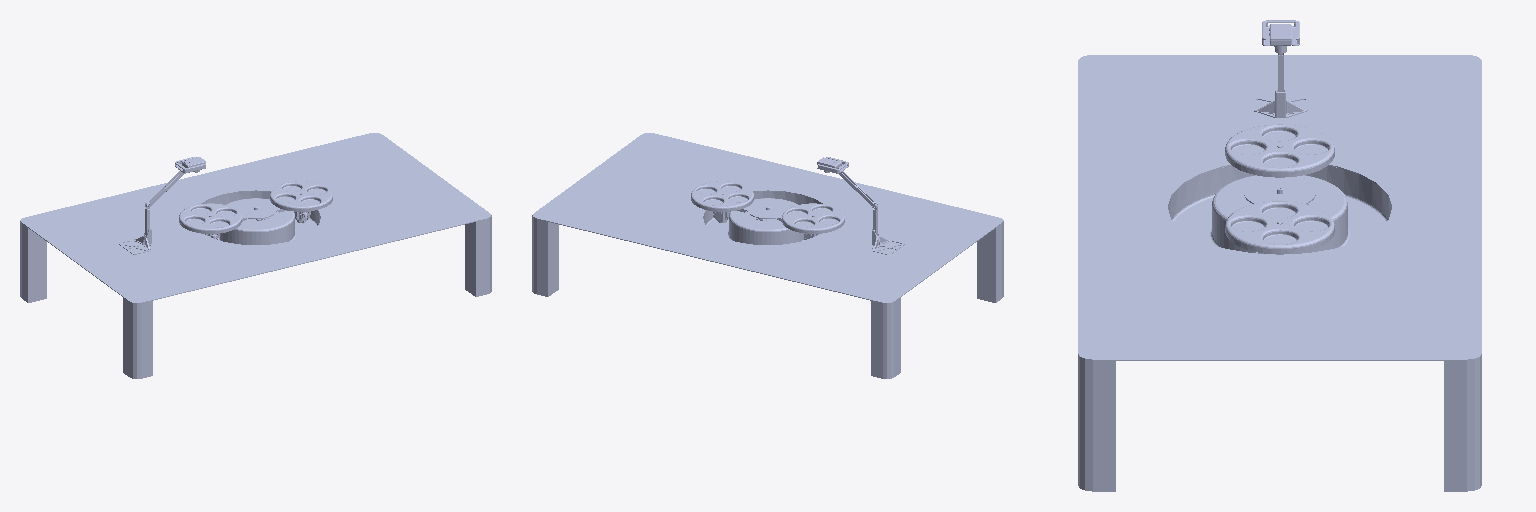
The robot description file, URDF, robot "assem_2":
<?xml version="1.0" encoding="utf-8"?>
<!-- This URDF was automatically created by SolidWorks to URDF Exporter! Originally created by [author] ([email redacted]) 
     Commit Version: 1.6.0-1-g15f4949  Build Version: 1.6.7594.29634
     For more information, please see http://wiki.ros.org/sw_urdf_exporter -->
<robot
  name="assem_2">
    <link name="world" />
    <joint name="fix_joint" type="fixed">
        <parent link="world" />
        <child link="base_link" />
    </joint>
  <link
    name="base_link">
    <inertial>
      <origin
        xyz="-1.2037 0.70002 0.33984"
        rpy="0 0 0" />
      <mass
        value="138.72" />
      <inertia
        ixx="46.94"
        ixy="2.1194E-05"
        ixz="-0.00054551"
        iyy="152.08"
        iyz="4.6405E-05"
        izz="191.72" />
    </inertial>
    <visual>
      <origin
        xyz="0 0 0"
        rpy="0 0 0" />
      <geometry>
        <mesh
          filename="package://assem_2/meshes/base_link.STL" />
      </geometry>
      <material
        name="">
        <color
          rgba="0.79216 0.81961 0.93333 1" />
      </material>
    </visual>
    <collision>
      <origin
        xyz="0 0 0"
        rpy="0 0 0" />
      <geometry>
        <mesh
          filename="package://assem_2/meshes/base_link.STL" />
      </geometry>
    </collision>
  </link>
  <link
    name="main_plate_link">
    <inertial>
      <origin
        xyz="-6.8116E-05 -0.0008703 -0.024391"
        rpy="0 0 0" />
      <mass
        value="2.876" />
      <inertia
        ixx="0.0066606"
        ixy="-9.8542E-06"
        ixz="-1.2824E-07"
        iyy="0.035178"
        iyz="-5.4442E-05"
        izz="0.035222" />
    </inertial>
    <visual>
      <origin
        xyz="0 0 0"
        rpy="0 0 0" />
      <geometry>
        <mesh
          filename="package://assem_2/meshes/main_plate_link.STL" />
      </geometry>
      <material
        name="">
        <color
          rgba="0.79216 0.81961 0.93333 1" />
      </material>
    </visual>
    <collision>
      <origin
        xyz="0 0 0"
        rpy="0 0 0" />
      <geometry>
        <mesh
          filename="package://assem_2/meshes/main_plate_link.STL" />
      </geometry>
    </collision>
  </link>
  <joint
    name="main_plate_joint"
    type="revolute">
    <origin
      xyz="-1.2 0.7 0.53"
      rpy="0 0 0" />
    <parent
      link="base_link" />
    <child
      link="main_plate_link" />
    <axis
      xyz="0 0 -1" />
    <limit
      lower="-3"
      upper="3"
      effort="300"
      velocity="1" />
  </joint>
  <link
    name="tray_link1">
    <inertial>
      <origin
        xyz="-2.276E-15 -5.5511E-17 0.017244"
        rpy="0 0 0" />
      <mass
        value="0.81393" />
      <inertia
        ixx="0.0083939"
        ixy="-5.0127E-19"
        ixz="5.7503E-18"
        iyy="0.0083939"
        iyz="1.6466E-19"
        izz="0.016652" />
    </inertial>
    <visual>
      <origin
        xyz="0 0 0"
        rpy="0 0 0" />
      <geometry>
        <mesh
          filename="package://assem_2/meshes/tray_link1.STL" />
      </geometry>
      <material
        name="">
        <color
          rgba="0.79216 0.81961 0.93333 1" />
      </material>
    </visual>
    <collision>
      <origin
        xyz="0 0 0"
        rpy="0 0 0" />
      <geometry>
        <mesh
          filename="package://assem_2/meshes/tray_link1.STL" />
      </geometry>
    </collision>
  </link>
  <joint
    name="tray_joint1"
    type="revolute">
    <origin
      xyz="0.315 0 0.02967"
      rpy="0 0 0" />
    <parent
      link="main_plate_link" />
    <child
      link="tray_link1" />
    <axis
      xyz="0 0 1" />
    <limit
      lower="-3"
      upper="3"
      effort="300"
      velocity="1" />
  </joint>
  <link
    name="tray_link2">
    <inertial>
      <origin
        xyz="-2.3037E-15 -5.5511E-17 0.017244"
        rpy="0 0 0" />
      <mass
        value="0.81393" />
      <inertia
        ixx="0.0083939"
        ixy="8.4786E-19"
        ixz="6.0323E-18"
        iyy="0.0083939"
        iyz="-8.4433E-20"
        izz="0.016652" />
    </inertial>
    <visual>
      <origin
        xyz="0 0 0"
        rpy="0 0 0" />
      <geometry>
        <mesh
          filename="package://assem_2/meshes/tray_link2.STL" />
      </geometry>
      <material
        name="">
        <color
          rgba="0.79216 0.81961 0.93333 1" />
      </material>
    </visual>
    <collision>
      <origin
        xyz="0 0 0"
        rpy="0 0 0" />
      <geometry>
        <mesh
          filename="package://assem_2/meshes/tray_link2.STL" />
      </geometry>
    </collision>
  </link>
  <joint
    name="tray_joint2"
    type="revolute">
    <origin
      xyz="-0.315 0 0.02967"
      rpy="0 0 0" />
    <parent
      link="main_plate_link" />
    <child
      link="tray_link2" />
    <axis
      xyz="0 0 1" />
    <limit
      lower="-3"
      upper="3"
      effort="300"
      velocity="1" />
  </joint>


    <transmission name="main_plate_jointtran">
      <type>transmission_interface/SimpleTransmission</type>
      <joint name="main_plate_joint">
        <hardwareInterface>hardware_interface/PositionJointInterface</hardwareInterface>
      </joint>
      <actuator name="main_plate_joint_actr">
        <hardwareInterface>hardware_interface/PositionJointInterface</hardwareInterface>
        <mechanicalReduction>1</mechanicalReduction>
      </actuator>
    </transmission>


     <transmission name="tray_joint1_tran">
      <type>transmission_interface/SimpleTransmission</type>
      <joint name="tray_joint1">
        <hardwareInterface>hardware_interface/PositionJointInterface</hardwareInterface>
      </joint>
      <actuator name="tray_joint1_actr">
        <hardwareInterface>hardware_interface/PositionJointInterface</hardwareInterface>
        <mechanicalReduction>1</mechanicalReduction>
      </actuator>
    </transmission>

     <transmission name="tray_joint2_tran">
      <type>transmission_interface/SimpleTransmission</type>
      <joint name="tray_joint2">
        <hardwareInterface>hardware_interface/PositionJointInterface</hardwareInterface>
      </joint>
      <actuator name="tray_joint2_actr">
        <hardwareInterface>hardware_interface/PositionJointInterface</hardwareInterface>
        <mechanicalReduction>1</mechanicalReduction>
      </actuator>
    </transmission>

    

    <gazebo>
      <plugin name="control" filename="libgazebo_ros_control.so">
        <robotNamespace>/</robotNamespace>
      </plugin>
    </gazebo>
</robot>

--- What the picture shows (computed from the rendered views, not written in the file) ---
3 views of the same robot in one strip: view 1: azimuth 30°, elevation 25°; view 2: azimuth 150°, elevation 25°; view 3: azimuth 270°, elevation 25° (orthographic).
Model assem_2 with 5 links and 4 joints (3 revolute, 1 fixed), rooted at world, posed every joint at zero.
Links seen in each view (by area): view 1: base_link, tray_link1, tray_link2, main_plate_link; view 2: base_link, tray_link1, tray_link2, main_plate_link; view 3: base_link, tray_link2, tray_link1, main_plate_link.
Boxes of the visible links, bbox=[...] form: base_link: bbox=[20, 133, 491, 378]; tray_link1: bbox=[270, 181, 332, 211]; tray_link2: bbox=[179, 203, 241, 233]; main_plate_link: bbox=[205, 193, 310, 239]; base_link: bbox=[532, 133, 1003, 378]; tray_link1: bbox=[691, 181, 753, 211]; tray_link2: bbox=[782, 203, 844, 233]; main_plate_link: bbox=[713, 193, 818, 239]; base_link: bbox=[1078, 20, 1481, 491]; tray_link2: bbox=[1225, 124, 1334, 177]; tray_link1: bbox=[1225, 201, 1334, 253]; main_plate_link: bbox=[1244, 145, 1315, 254].
Size in the robot's own frame: 2.5 by 1.4 by 0.9789 metres.
4 mesh visuals loaded from 4 distinct referenced files (4 binary STL).